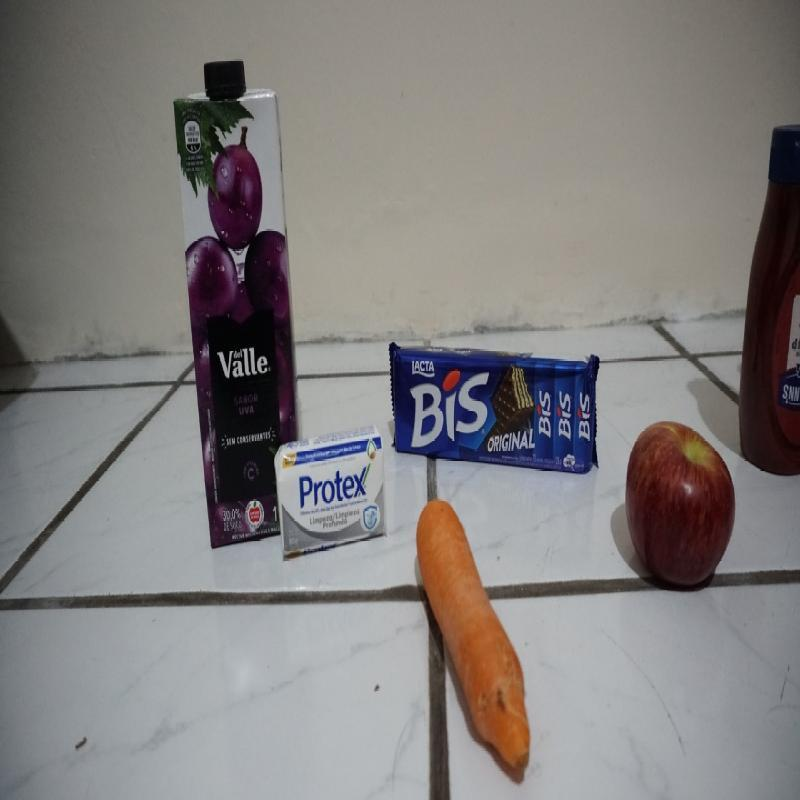Apple: (624, 419, 732, 601)
Carrot: (414, 500, 530, 776)
Ketchup: (737, 124, 798, 480)
Soap: (275, 428, 382, 559)
